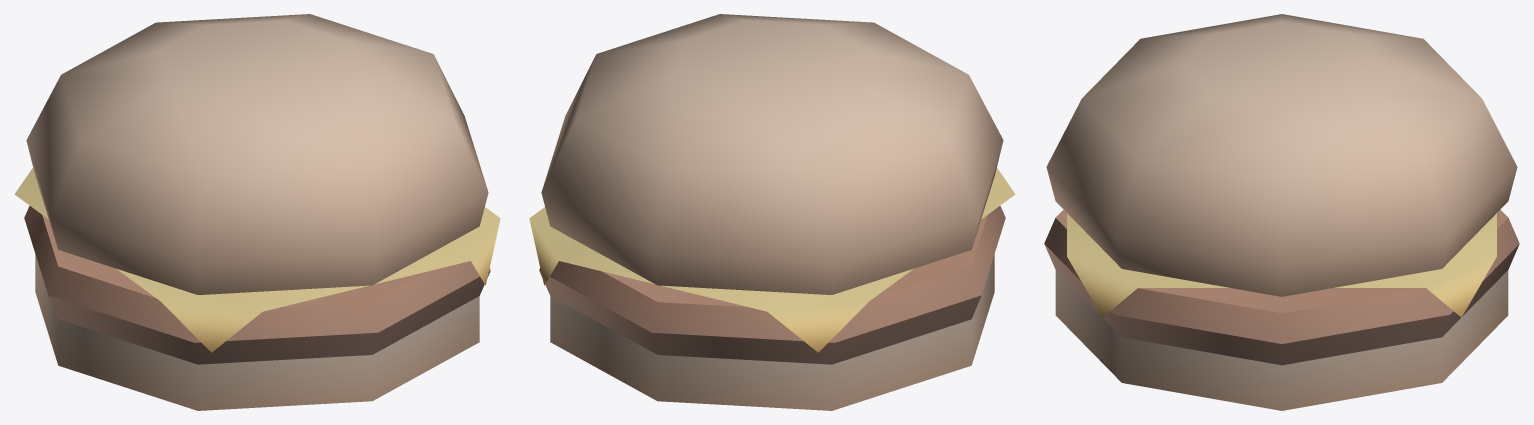
The model's file is burger-cheese.glb.
3 renders of one model, left to right at view 1: azimuth 30°, elevation 25°; view 2: azimuth 150°, elevation 25°; view 3: azimuth 270°, elevation 25°, orthographic.
Parts seen in each view (by area): view 1: burger-cheese; view 2: burger-cheese; view 3: burger-cheese.
Boxes of the visible parts, x1,y1,x2,y2 form: burger-cheese: [14, 14, 500, 410]; burger-cheese: [529, 14, 1015, 410]; burger-cheese: [1044, 14, 1519, 410].
Size of the model in its own units: 0.378 by 0.22 by 0.378.
